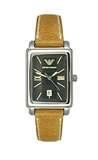watch: (24, 43, 75, 118)
